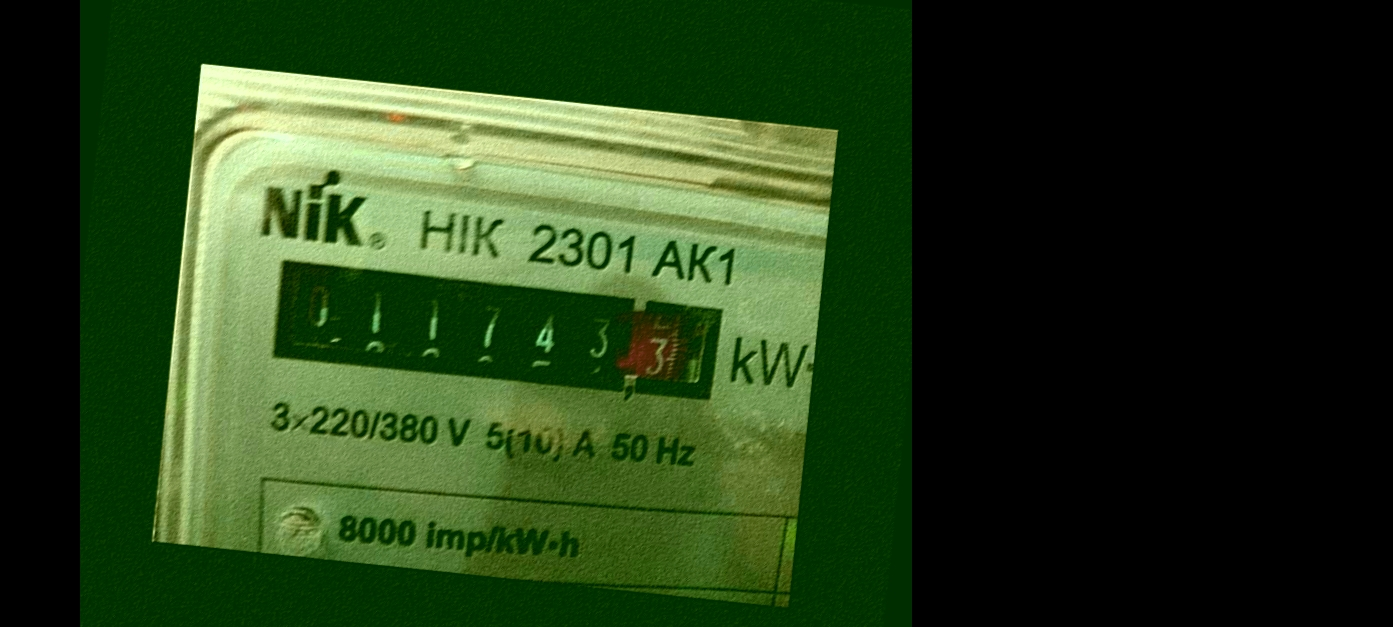0: (303, 281, 336, 331)
1: (422, 295, 448, 345), (367, 289, 389, 339)
3: (585, 314, 618, 363), (643, 334, 672, 380)
4: (531, 307, 564, 358)
7: (477, 303, 506, 353)
screen: (257, 249, 732, 415)
